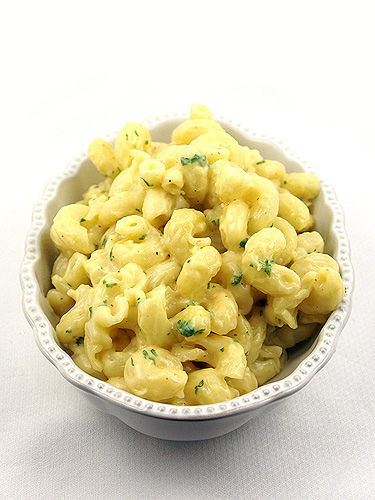macncheese: (49, 107, 344, 404)
